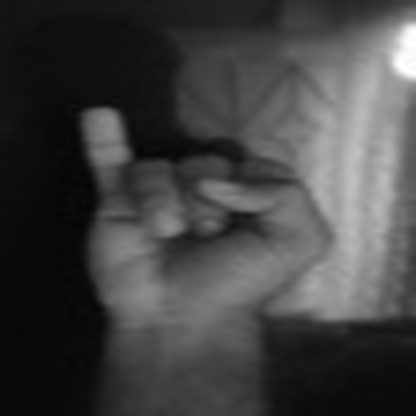i: (63, 84, 345, 314)
